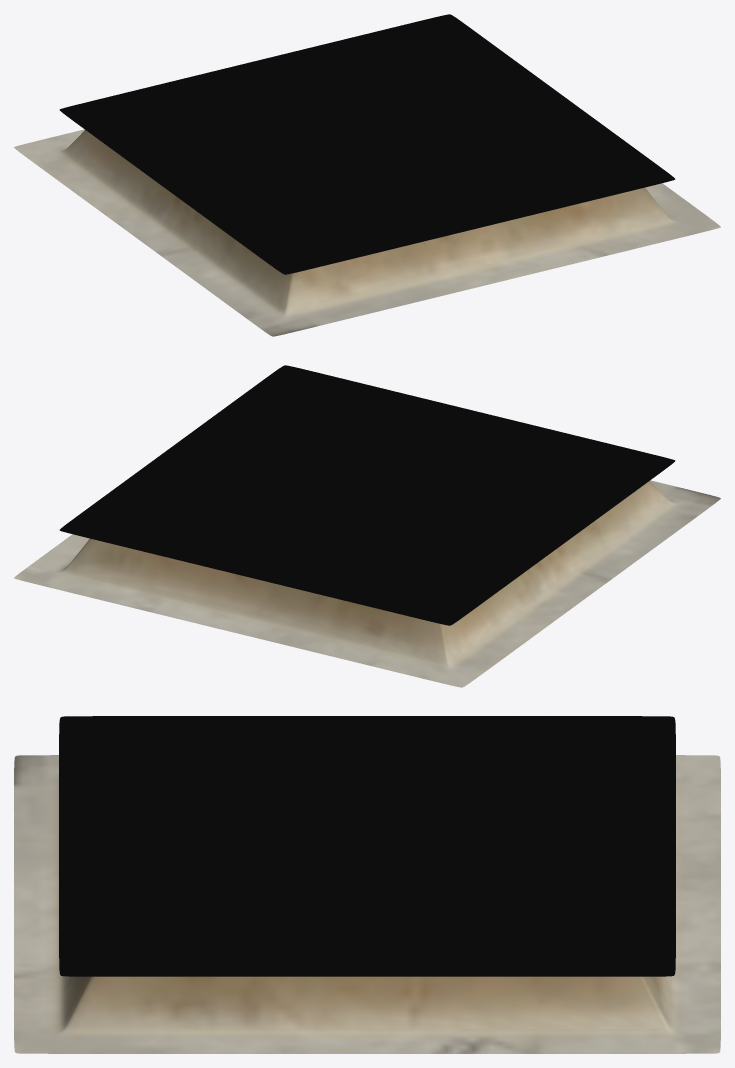
The model's file is SM_Ceiling_Grid06.fbx.
3 renders of one model, top to bottom at view 1: azimuth 30°, elevation 25°; view 2: azimuth 150°, elevation 25°; view 3: azimuth 270°, elevation 25°, orthographic. The views are drawn at different scales.
Parts seen in each view (by area): view 1: SM_Ceiling_Grid06_LOD0; view 2: SM_Ceiling_Grid06_LOD0; view 3: SM_Ceiling_Grid06_LOD0.
Part boxes in pixels (x1,y1,x2,y2): SM_Ceiling_Grid06_LOD0: (14, 14, 720, 336); SM_Ceiling_Grid06_LOD0: (14, 365, 720, 687); SM_Ceiling_Grid06_LOD0: (14, 716, 720, 1053).
Bounding box in the file's own units: 60 × 60 × 5.44.
